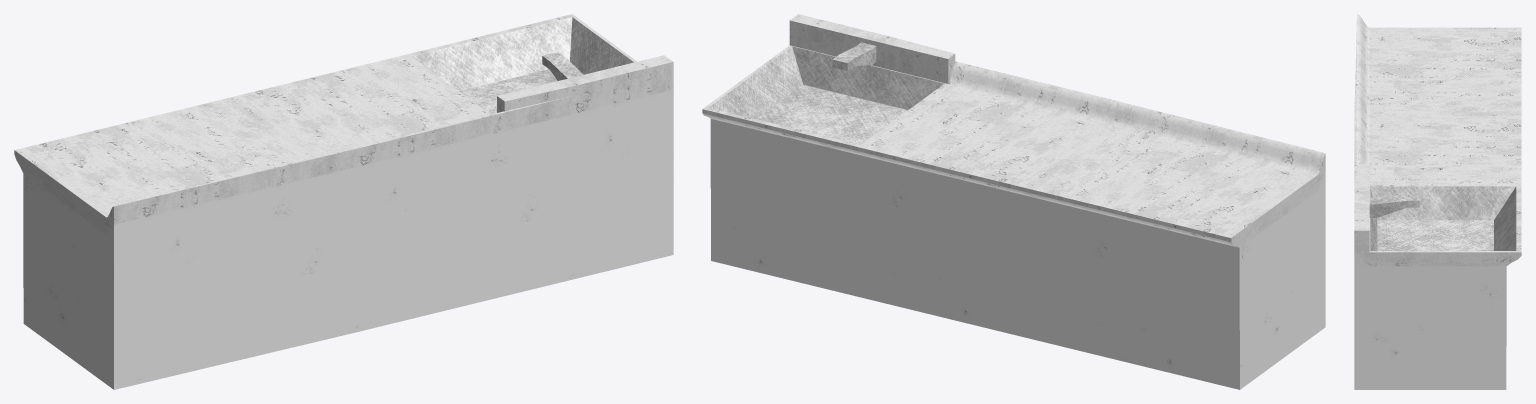
File: table4.fbx
3 views of the same model, side by side, from view 1: azimuth 30°, elevation 25°; view 2: azimuth 150°, elevation 25°; view 3: azimuth 270°, elevation 25° (orthographic). The views are drawn at different scales.
Parts seen in each view (by area): view 1: Table4; view 2: Table4; view 3: Table4.
Boxes of the visible parts, box(x1,y1,x2,y2) form: Table4: box(14, 14, 673, 389); Table4: box(702, 14, 1325, 389); Table4: box(1354, 14, 1521, 389).
Size of the model in its own units: 350 by 116 by 110.
Materials: 1 (1 with a texture image).
